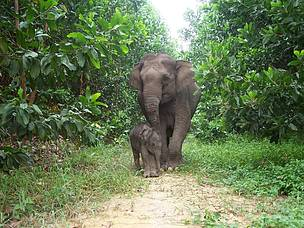Indian Elephant: (122, 50, 213, 180)
